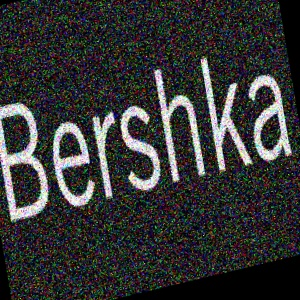bershka: (265, 0, 290, 75)
